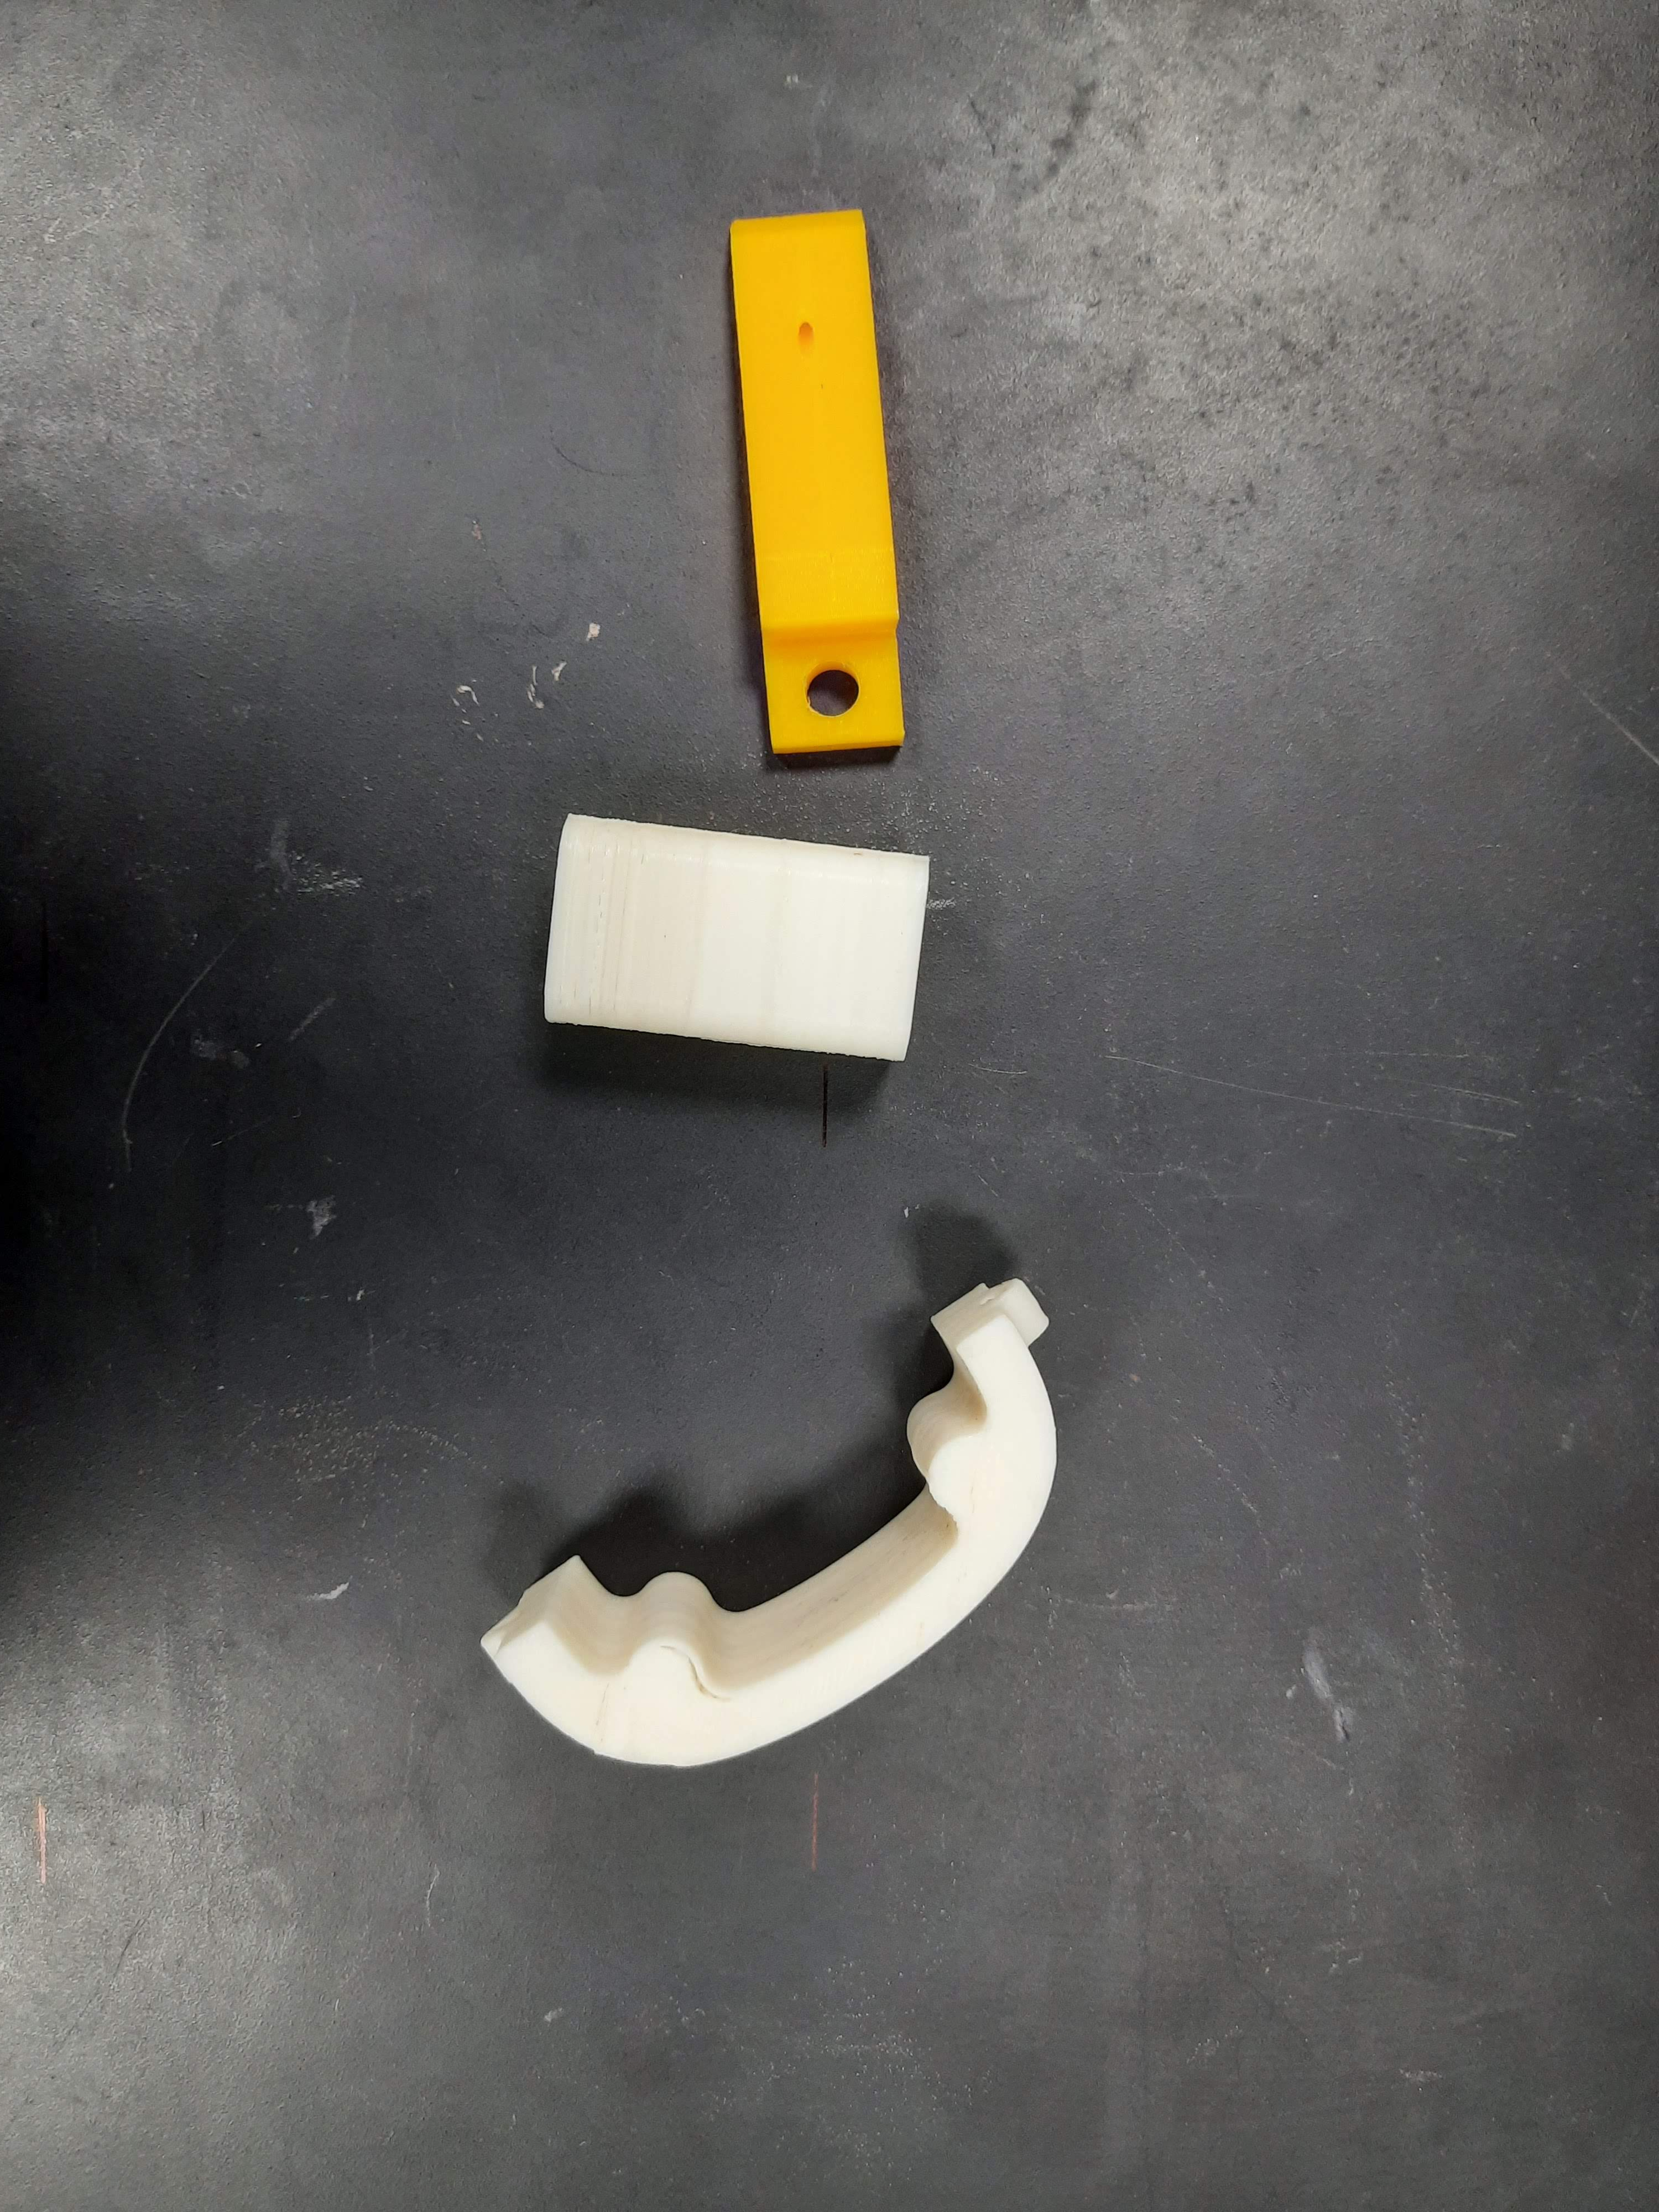ARC: (465, 1258, 1168, 1853)
CUBE: (538, 810, 931, 1062)
YELLOW: (723, 209, 908, 752)
